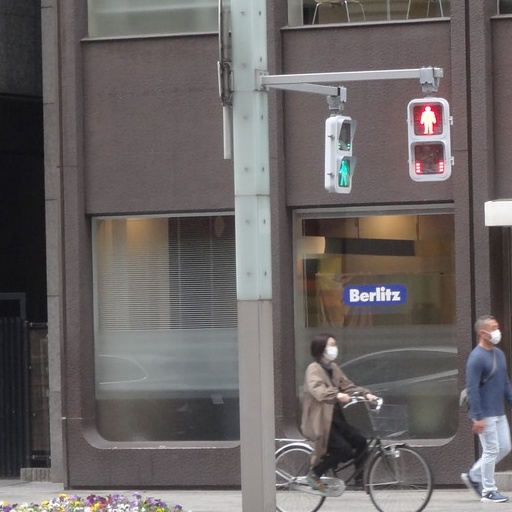Pedestrian_Signal_Blue: (322, 107, 354, 195)
Pedestrian_Signal_Red: (403, 91, 457, 190)
